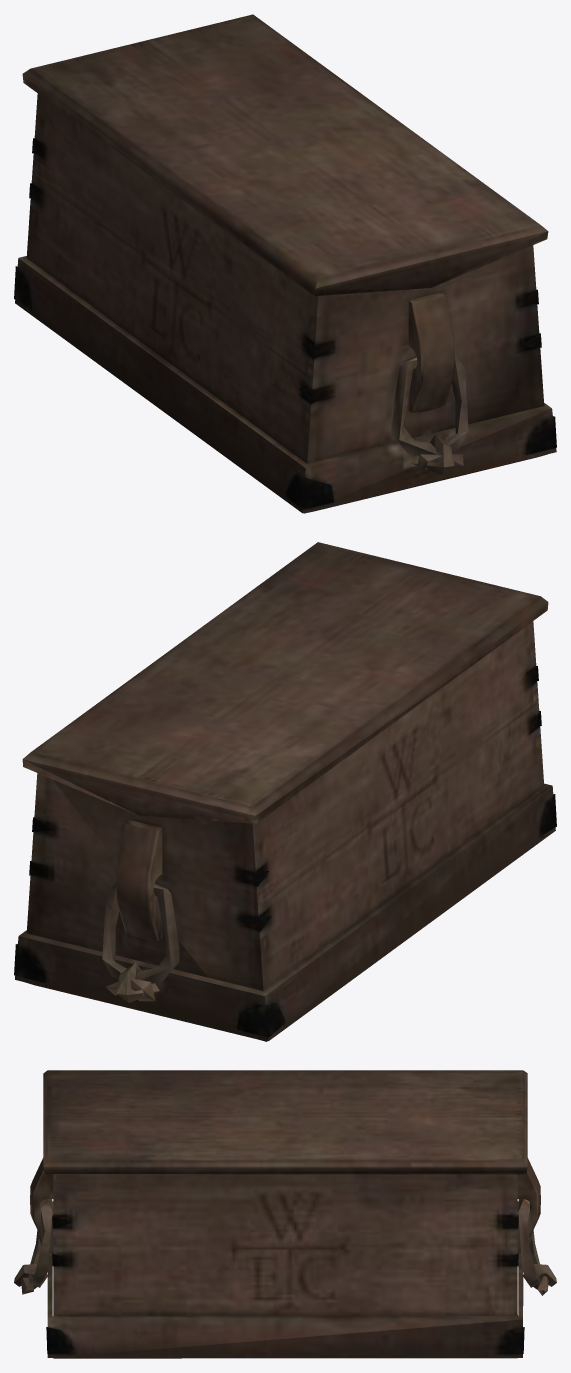
The model's file is ph_crate.glb.
3 views of the same model, one above another, from view 1: azimuth 30°, elevation 25°; view 2: azimuth 150°, elevation 25°; view 3: azimuth 270°, elevation 25° (orthographic). The views are drawn at different scales.
Visible parts, largest first — view 1: crate; view 2: crate; view 3: crate.
Boxes of the visible parts, box(x1,y1,x2,y2) form: crate: box(14, 14, 556, 513); crate: box(14, 542, 556, 1041); crate: box(14, 1070, 556, 1358).
Size of the model in its own units: 0.5228 by 0.4606 by 1.16.
1 material, 1 textured.
